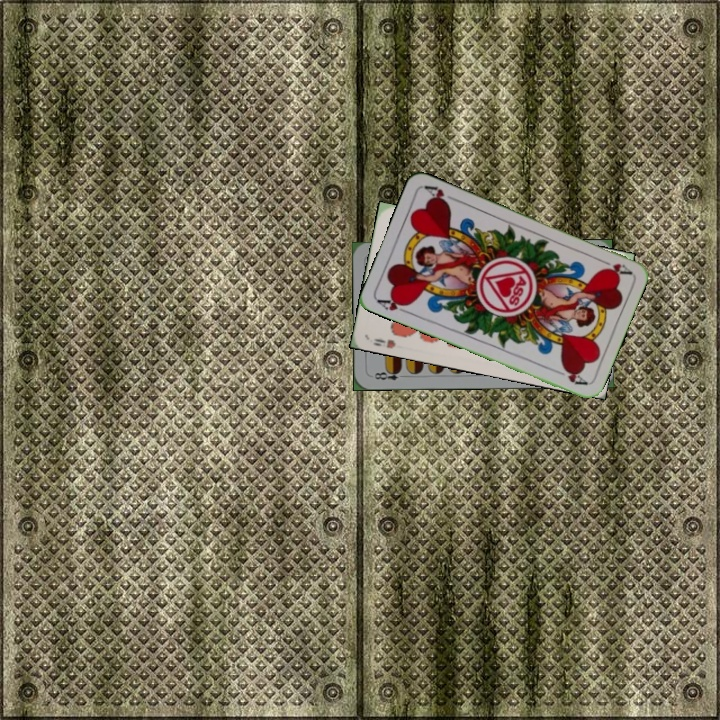E8: (370, 366, 409, 383)
H9: (369, 334, 398, 351)
HA: (594, 255, 634, 278), (374, 293, 413, 316)
